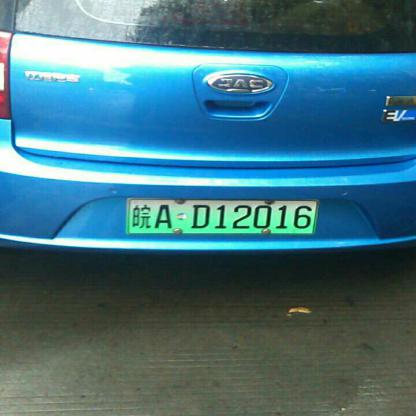lp: (127, 197, 320, 234)
